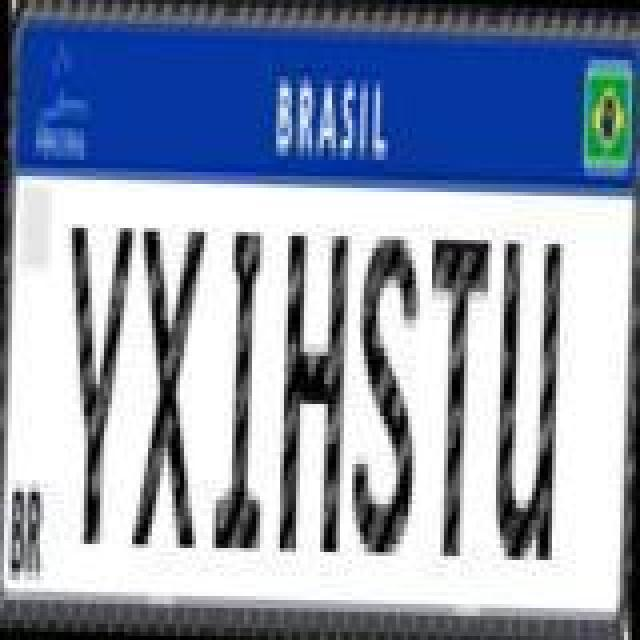H: (274, 226, 350, 558)
I: (208, 226, 272, 558)
S: (346, 228, 422, 564)
T: (420, 234, 492, 566)
U: (492, 234, 564, 566)
X: (130, 218, 206, 550)
Y: (58, 218, 134, 550)
